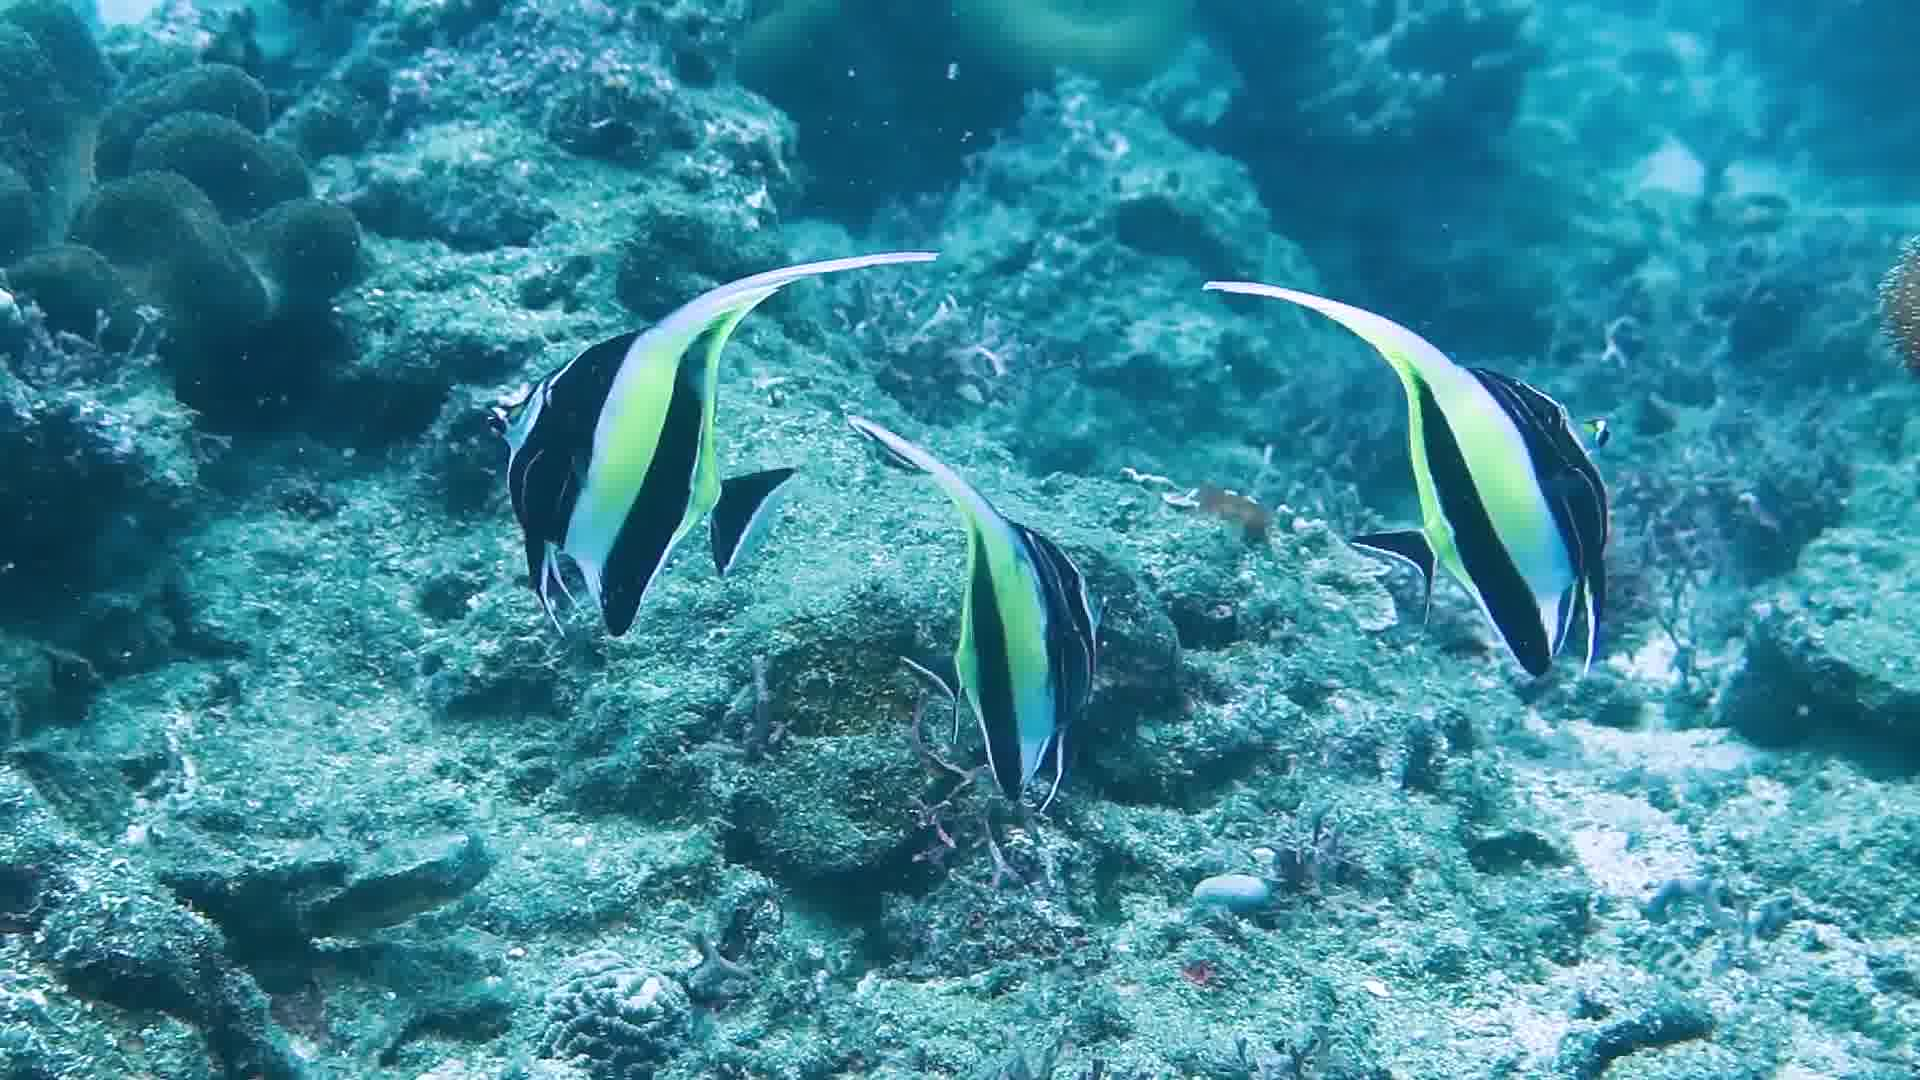Zanclus cornutus: (467, 280, 800, 647), (1323, 338, 1684, 676), (895, 487, 1137, 799)
